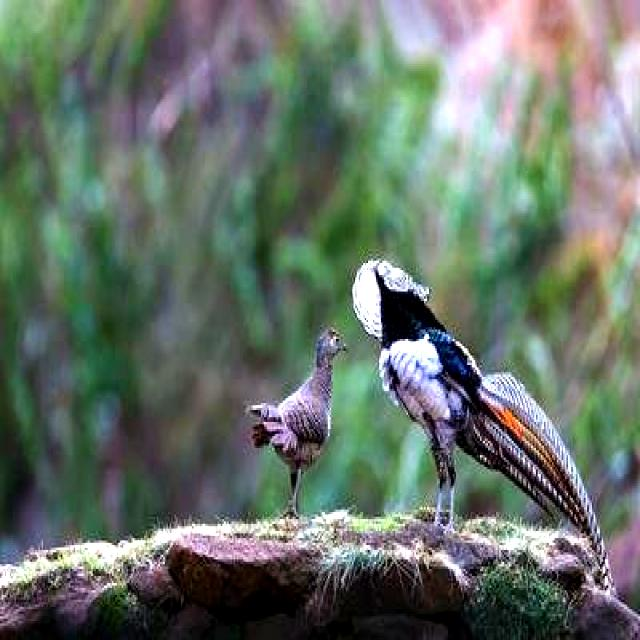Chrysolophus amherstiae: (464, 372, 600, 543)
